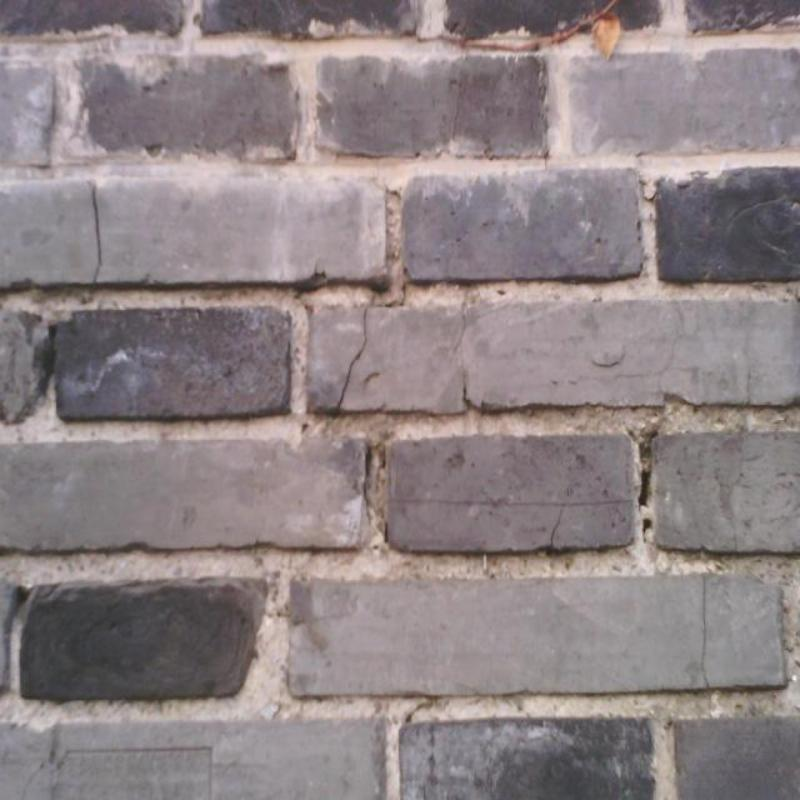crack: (336, 307, 368, 410), (89, 183, 103, 283), (701, 576, 712, 688), (450, 306, 468, 360), (404, 696, 434, 724), (460, 360, 474, 409), (382, 284, 408, 308), (550, 504, 563, 546), (638, 470, 651, 509), (641, 519, 652, 541)
